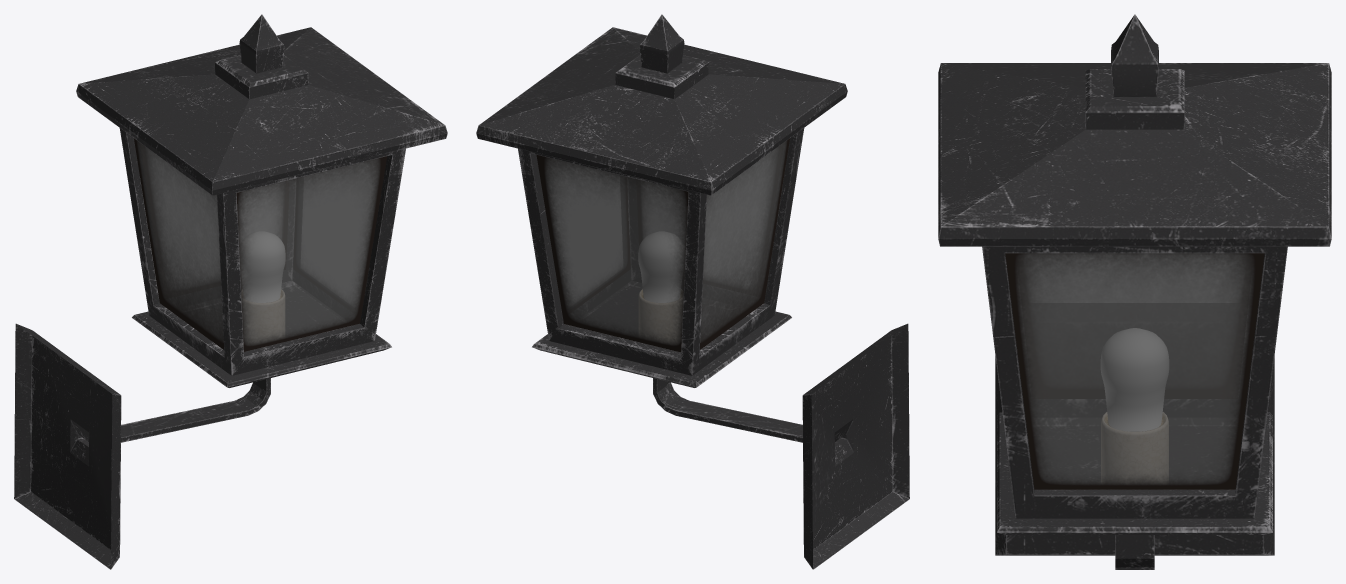
File: WallLamp.glb
The picture shows the model from 3 angles, left to right: view 1: azimuth 30°, elevation 25°; view 2: azimuth 150°, elevation 25°; view 3: azimuth 270°, elevation 25°; orthographic projection. The views are drawn at different scales.
Parts seen in each view (by area): view 1: Cube_Material_0, Cube.001_glass_0, Cylinder_Material.001_0; view 2: Cube_Material_0, Cube.001_glass_0, Cylinder_Material.001_0; view 3: Cube_Material_0, Cube.001_glass_0, Cylinder_Material.001_0.
Boxes of the visible parts, x1,y1,x2,y2 form: Cube_Material_0: (14,14,447,569); Cube.001_glass_0: (134,138,387,351); Cylinder_Material.001_0: (242,231,285,341); Cube_Material_0: (476,14,909,569); Cube.001_glass_0: (536,138,789,352); Cylinder_Material.001_0: (638,231,682,340); Cube_Material_0: (938,14,1331,569); Cube.001_glass_0: (1005,253,1264,489); Cylinder_Material.001_0: (1101,328,1168,481).
Bounding box in the file's own units: 33.02 × 46.93 × 24.53.
3 materials, 3 textured.
